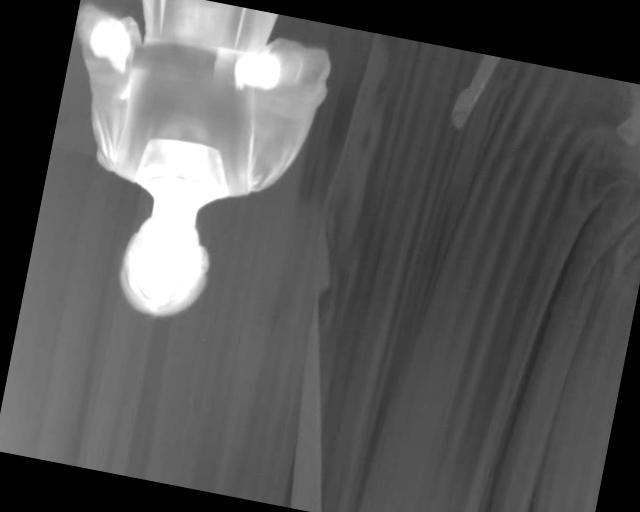face: (111, 204, 220, 327)
